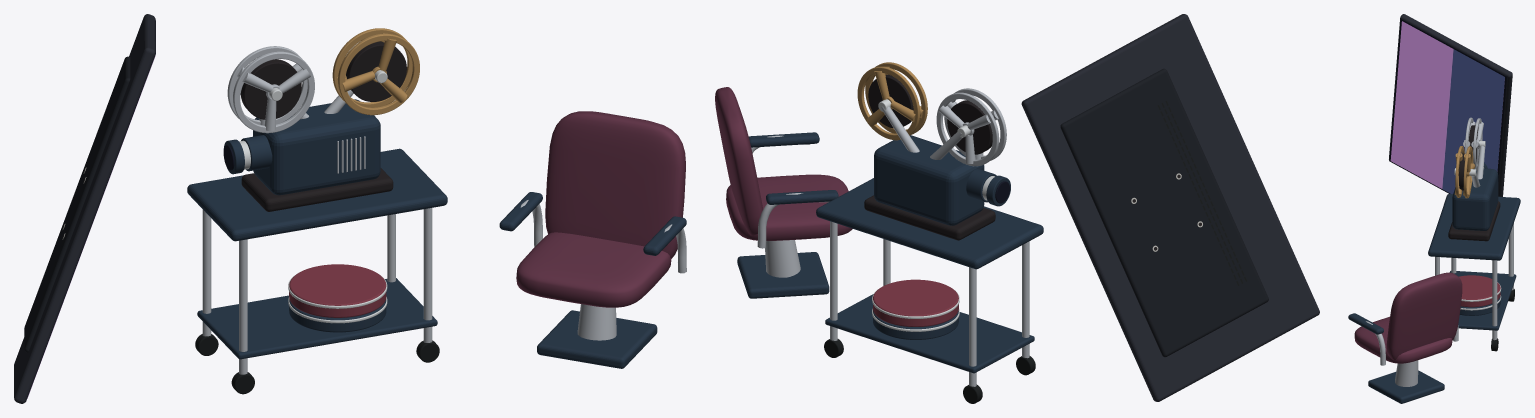
File: nocturne.glb
3 renders of one model, left to right at view 1: azimuth 30°, elevation 25°; view 2: azimuth 150°, elevation 25°; view 3: azimuth 270°, elevation 25°, orthographic. The views are drawn at different scales.
Parts seen in each view (by area): view 1: Padded back, Projector table, Seat pan, Motor housing, Lower trolley shelf, TV / graphite frame.009, Film canister.001, TV / rear enclosure.009, Bolted base, Projector shoe, Film winding, Film winding.001 (+13 smaller); view 2: TV / graphite frame.009, TV / rear enclosure.009, Motor housing, Projector table, Lower trolley shelf, Seat pan, Padded back, Film canister.001, Bolted base, Projector shoe, Film winding, Open spool flange.001 (+13 smaller); view 3: TV / active picture.019, TV / active picture.018, Padded back, Projector table, Motor housing, TV / graphite frame.009, Seat pan, Bolted base, Lower trolley shelf, Film canister.001, TV / glass surround.009, Projector shoe (+11 smaller).
Part boxes in pixels (x1=…): Padded back: x1=545, y1=111, x2=685, y2=258; Projector table: x1=187, y1=148, x2=447, y2=241; Seat pan: x1=516, y1=232, x2=671, y2=307; Motor housing: x1=253, y1=99, x2=380, y2=195; Lower trolley shelf: x1=197, y1=278, x2=437, y2=359; TV / graphite frame.009: x1=14, y1=14, x2=155, y2=403; Film canister.001: x1=289, y1=264, x2=386, y2=317; TV / rear enclosure.009: x1=24, y1=56, x2=130, y2=352; Bolted base: x1=537, y1=310, x2=657, y2=368; Projector shoe: x1=241, y1=168, x2=393, y2=211; Film winding: x1=240, y1=59, x2=301, y2=119; Film winding.001: x1=346, y1=41, x2=406, y2=101; TV / graphite frame.009: x1=1021, y1=14, x2=1319, y2=401; TV / rear enclosure.009: x1=1060, y1=68, x2=1268, y2=357; Motor housing: x1=874, y1=135, x2=984, y2=225; Projector table: x1=816, y1=178, x2=1043, y2=269; Lower trolley shelf: x1=825, y1=294, x2=1034, y2=373; Seat pan: x1=726, y1=174, x2=852, y2=240; Padded back: x1=715, y1=87, x2=763, y2=235; Film canister.001: x1=873, y1=279, x2=958, y2=326; Bolted base: x1=737, y1=252, x2=829, y2=298; Projector shoe: x1=864, y1=195, x2=995, y2=240; Film winding: x1=947, y1=100, x2=992, y2=154; Open spool flange.001: x1=936, y1=92, x2=999, y2=166; TV / active picture.019: x1=1396, y1=21, x2=1504, y2=146; TV / active picture.018: x1=1390, y1=91, x2=1499, y2=193; Padded back: x1=1386, y1=272, x2=1462, y2=360; Projector table: x1=1428, y1=194, x2=1520, y2=260; Motor housing: x1=1452, y1=168, x2=1498, y2=230; TV / graphite frame.009: x1=1389, y1=14, x2=1512, y2=196; Seat pan: x1=1354, y1=316, x2=1452, y2=363; Bolted base: x1=1368, y1=370, x2=1444, y2=403; Lower trolley shelf: x1=1449, y1=271, x2=1516, y2=330; Film canister.001: x1=1459, y1=275, x2=1500, y2=307; TV / glass surround.009: x1=1389, y1=19, x2=1506, y2=193; Projector shoe: x1=1448, y1=201, x2=1500, y2=241.
Size of the model in its own units: 10.25 by 5.93 by 3.81.
14 materials, 2 textured.
